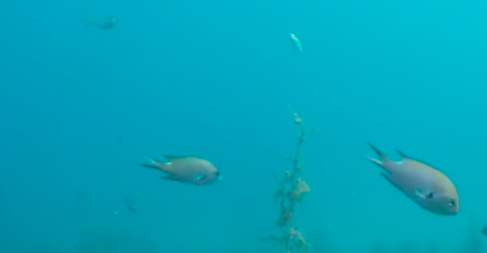smallfish: (363, 139, 470, 222), (136, 148, 232, 199)
